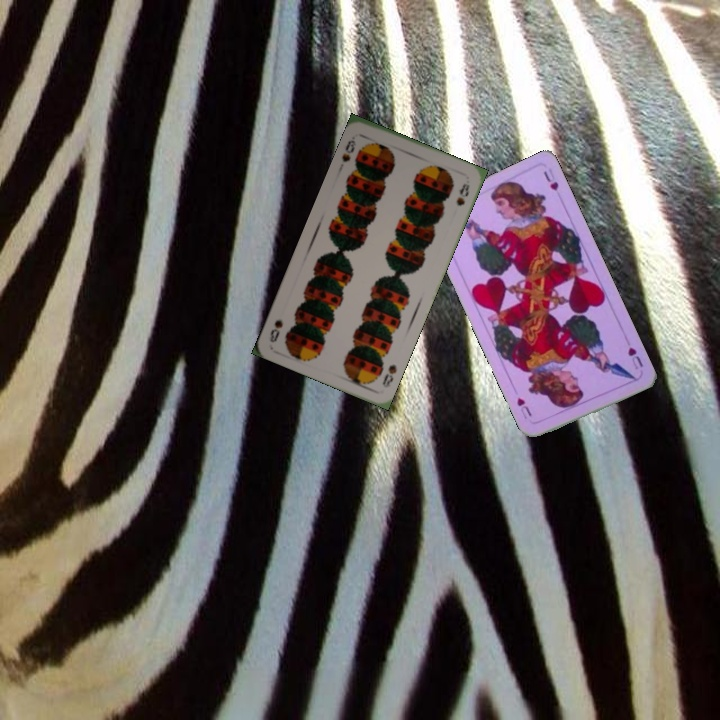HU: (624, 343, 646, 372)
S8: (338, 132, 359, 165), (378, 360, 399, 388)
